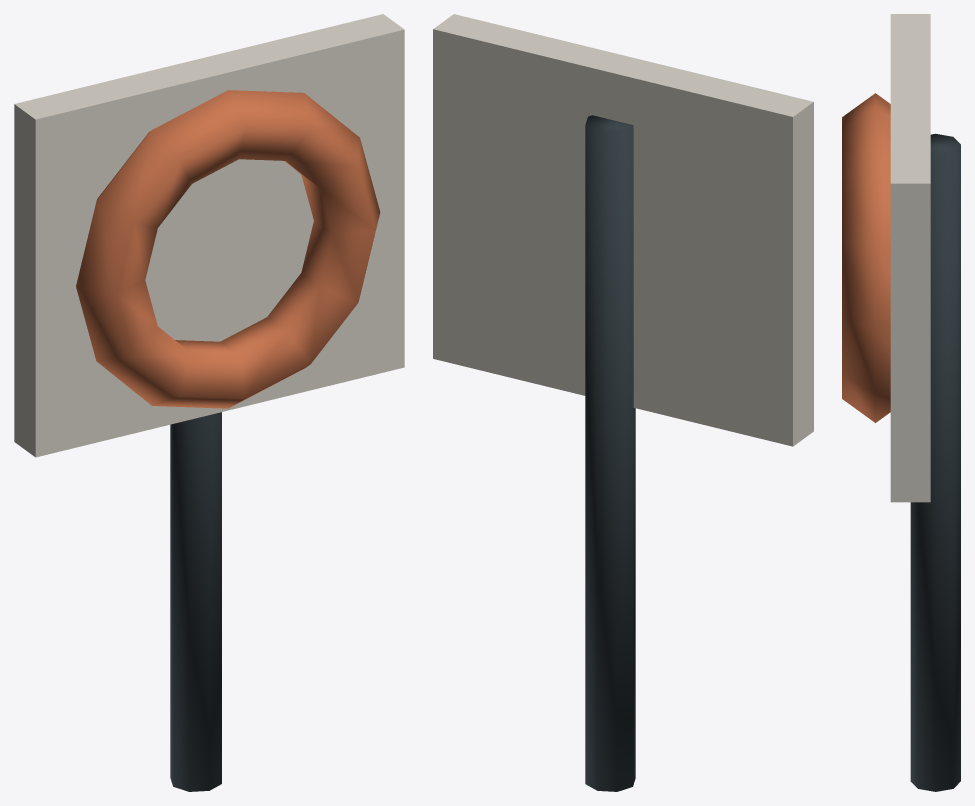
The model's file is lifebuoy.glb.
3 renders of one model, left to right at view 1: azimuth 30°, elevation 25°; view 2: azimuth 150°, elevation 25°; view 3: azimuth 270°, elevation 25°, orthographic. The views are drawn at different scales.
Visible parts, largest first — view 1: lifebuoy; view 2: lifebuoy; view 3: lifebuoy.
Part boxes in pixels (box(x1,y1,x2,y2)): lifebuoy: box(14, 14, 404, 791); lifebuoy: box(433, 14, 813, 791); lifebuoy: box(842, 14, 960, 791).
Size of the model in its own units: 0.8001 by 1.5 by 0.2366.
